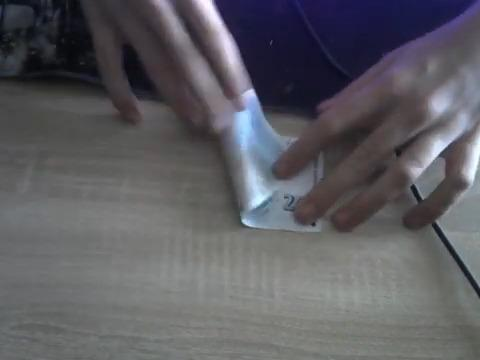20leva: (215, 84, 322, 233)
